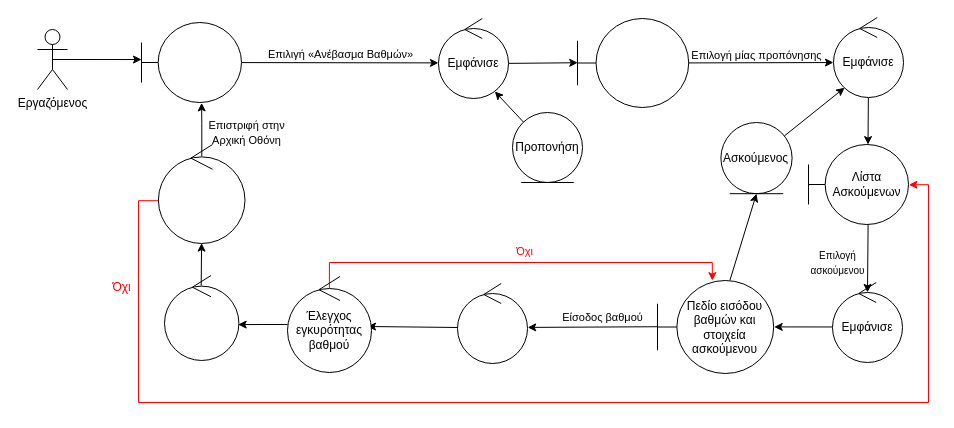
The diagram is 954 pixels wide and 428 high, and some of its shapes have lost their labels. Each missing label, with the centre of its shape:
Έλεγχος συμπλήρωσης βαθμών: point (201, 194)
Αρχική Οθόνη: point (191, 62)
Καταχώρηση: point (492, 323)
Μήνυμα επιτχυίας: point (201, 317)
Σελίδα λίστας προπονήσεων: point (632, 63)
